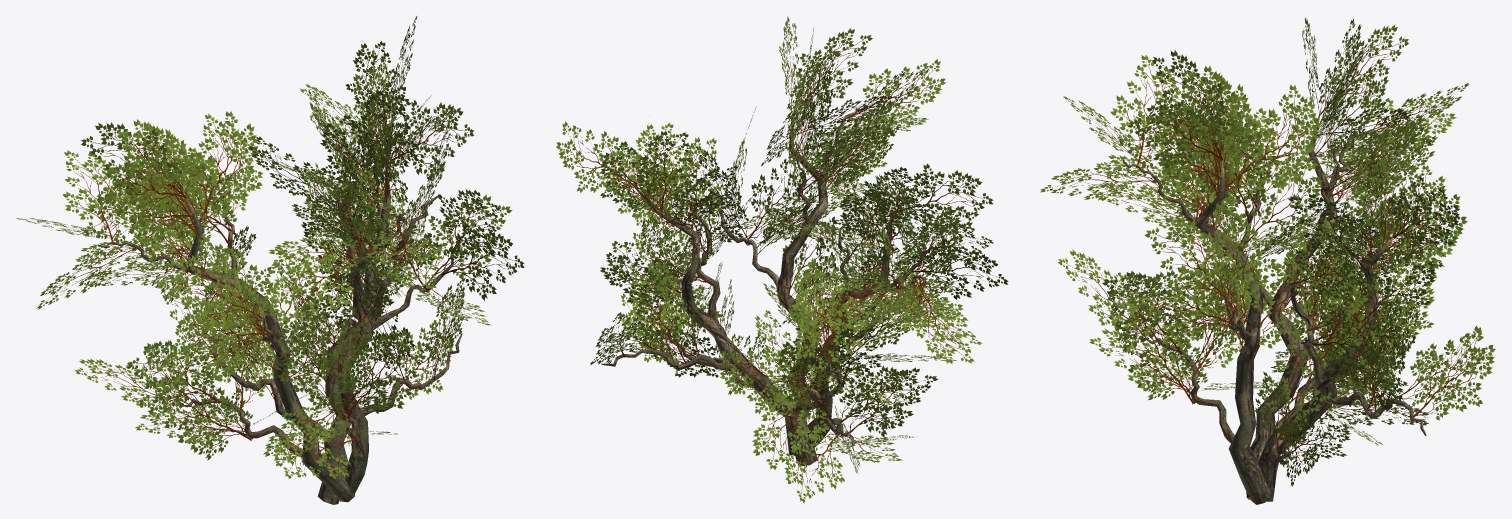
Rendered from LargeTree.fbx.
3 views of the same model, side by side, from view 1: azimuth 30°, elevation 25°; view 2: azimuth 150°, elevation 25°; view 3: azimuth 270°, elevation 25° (orthographic). The views are drawn at different scales.
Parts seen in each view (by area): view 1: LargeTree; view 2: LargeTree; view 3: LargeTree.
Boxes of the visible parts, box(x1,y1,x2,y2) form: LargeTree: box(16, 16, 524, 504); LargeTree: box(556, 16, 1008, 502); LargeTree: box(1040, 17, 1495, 504).
Bounding box in the file's own units: 183 × 185 × 172.
